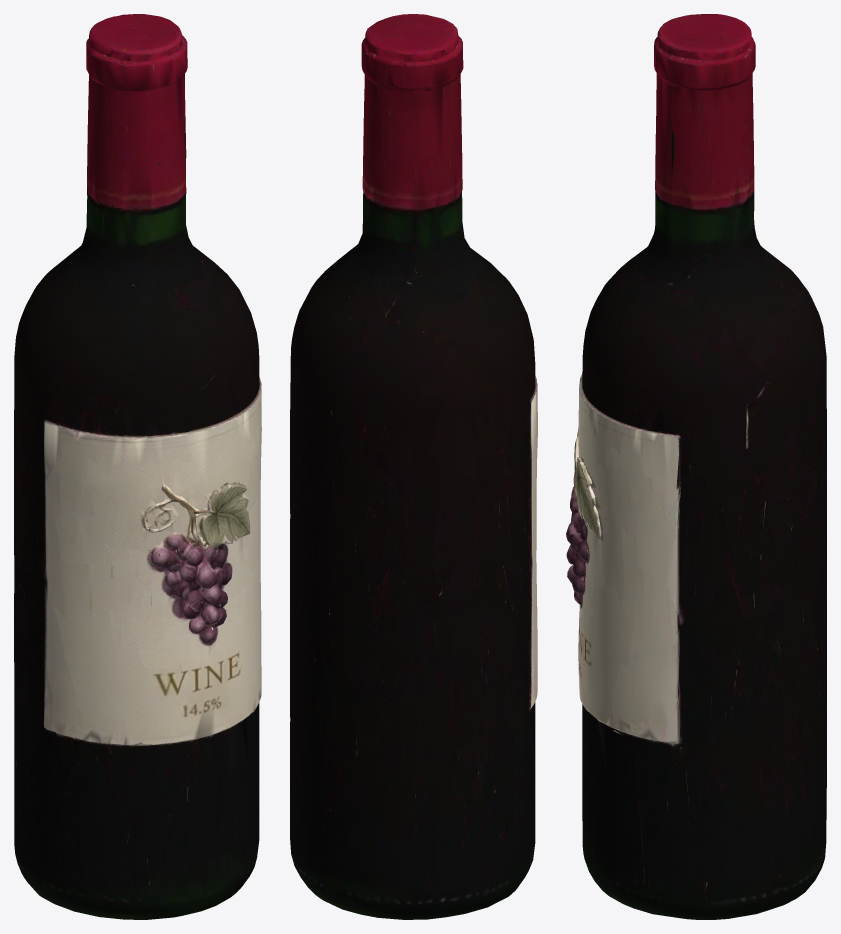
File: upm_mv3pqadxu5.glb
3 views of the same model, side by side, from view 1: azimuth 30°, elevation 25°; view 2: azimuth 150°, elevation 25°; view 3: azimuth 270°, elevation 25° (orthographic).
Size of the model in its own units: 0.5024 by 1.9 by 0.5332.
Materials: 1 (1 with a texture image).
